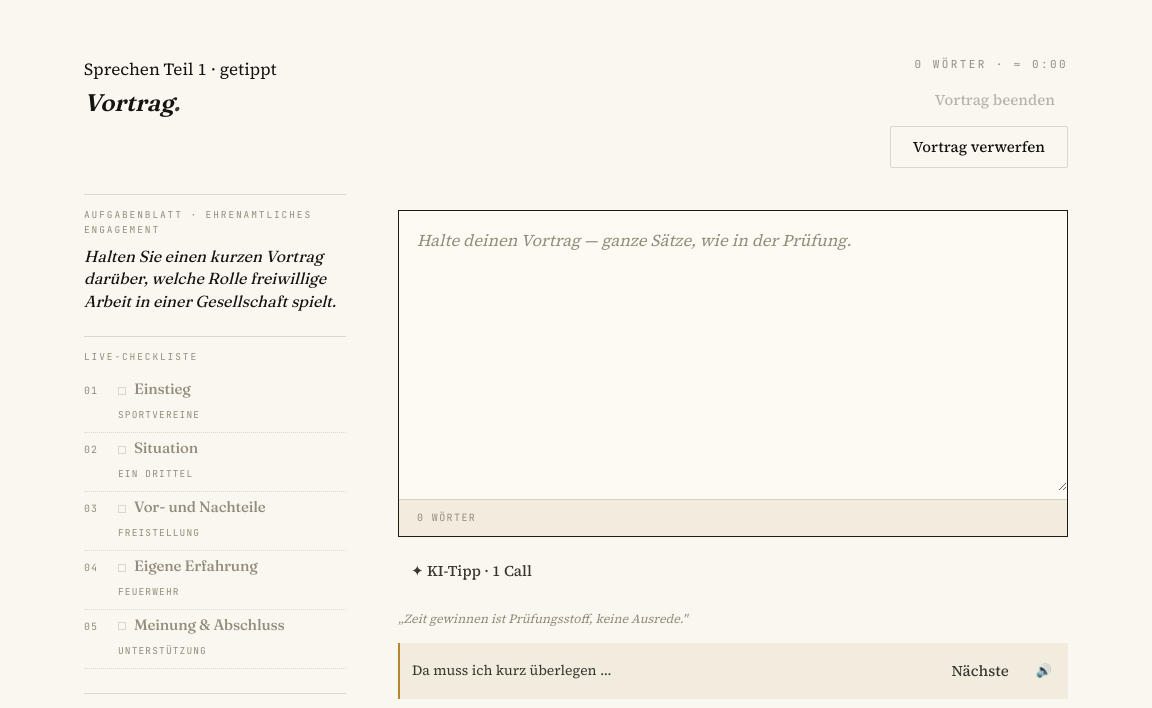
Test: Teil1Runner Live-Checkliste › lights exactly the row whose planned keyword was said, reading 'gesagt'
In the text box with class "rede-textarea": (733, 351) top-left (399, 211), bottom-right (1067, 491), type "Die Freistellung von der Arbeit war das große Thema."
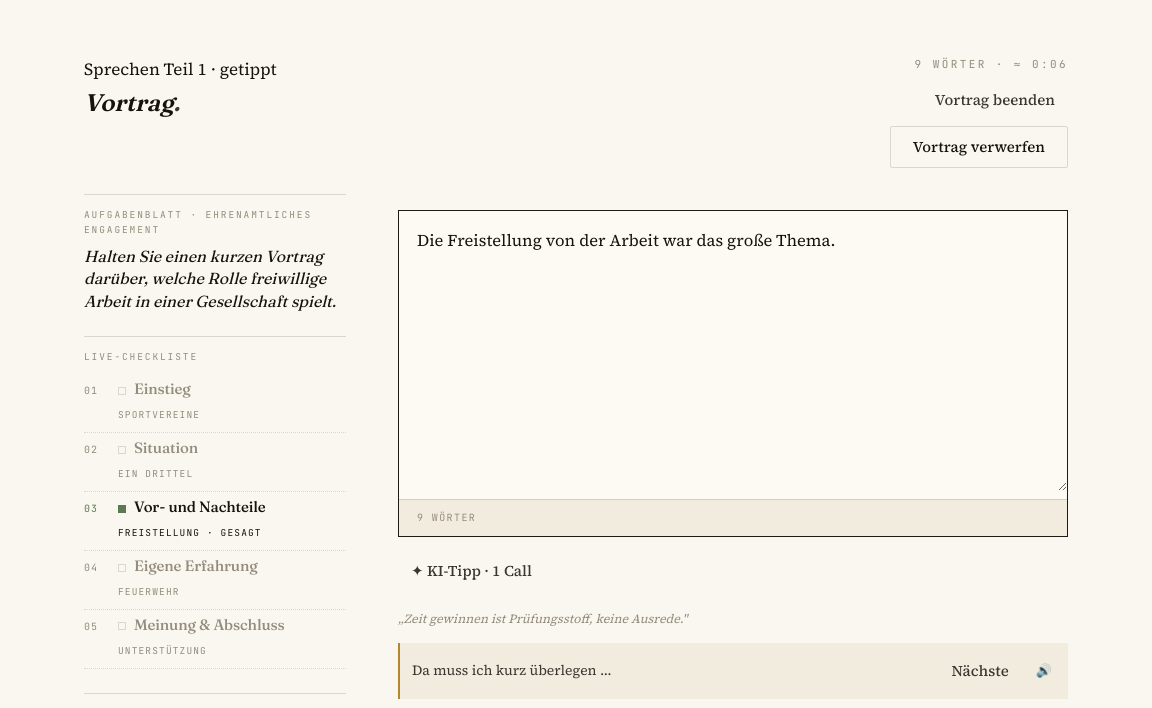
Result: the button with class "spr-step-btn" shows "gesagt" at top-left (200, 526), bottom-right (262, 539)
